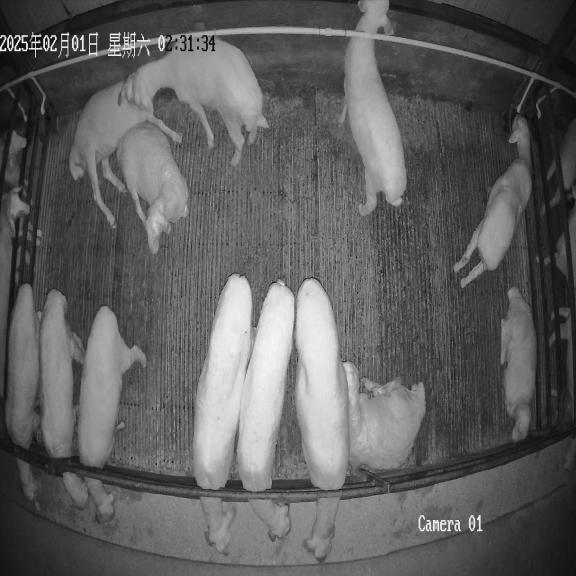eating: (193, 273, 253, 554), (295, 278, 350, 567), (237, 281, 295, 545), (77, 306, 146, 525), (39, 289, 89, 512), (5, 283, 40, 508)
lying: (69, 73, 181, 227), (453, 116, 532, 287), (116, 122, 188, 254), (342, 362, 426, 470), (500, 287, 536, 442)
stand: (127, 34, 268, 166), (339, 0, 406, 215)
